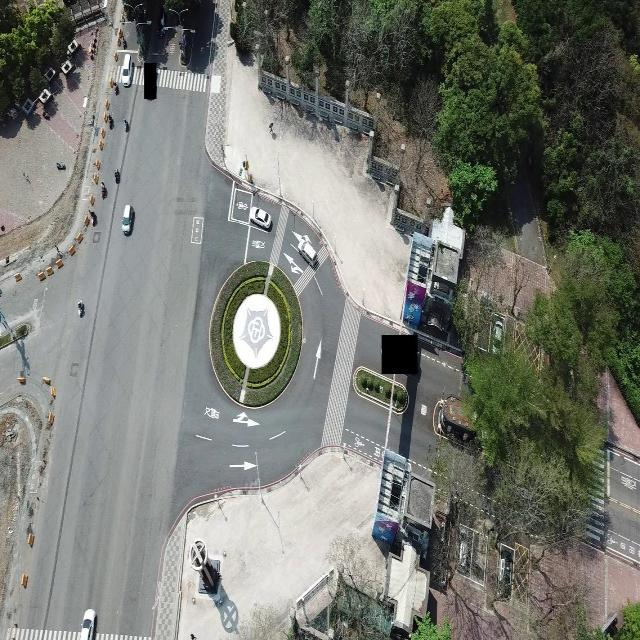bike: (88, 207, 99, 230), (99, 180, 108, 200), (106, 112, 114, 133), (76, 300, 84, 318), (114, 165, 120, 185), (113, 81, 120, 97)
car: (498, 546, 512, 598), (457, 522, 470, 578), (297, 234, 318, 268), (80, 608, 98, 639), (250, 206, 272, 231), (492, 317, 504, 358), (121, 204, 135, 235), (121, 52, 133, 87)
